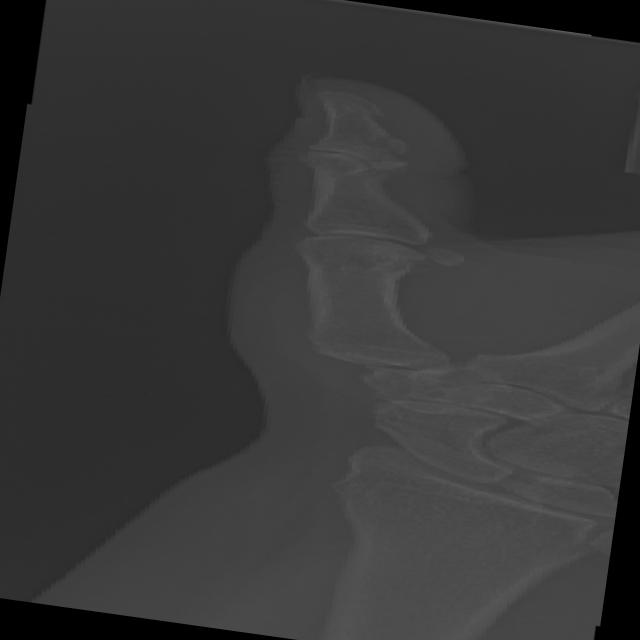fingers positive: (310, 112, 438, 181)
